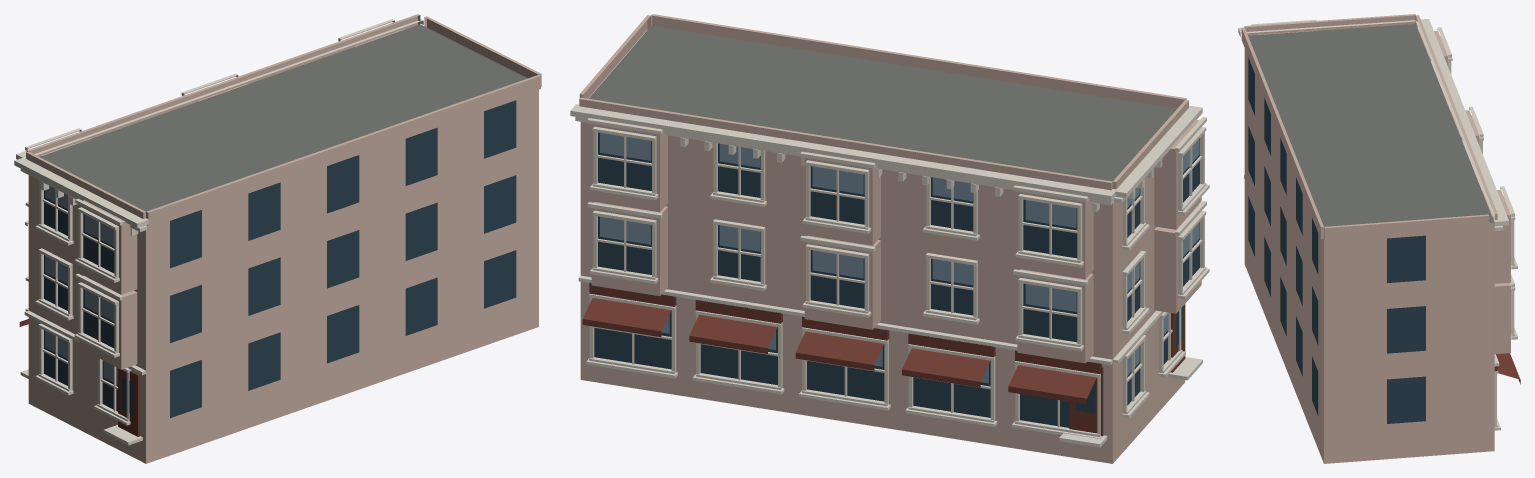
3 views of the same model, side by side, from view 1: azimuth 30°, elevation 25°; view 2: azimuth 150°, elevation 25°; view 3: azimuth 270°, elevation 25° (orthographic). The views are drawn at different scales.
Visible parts, largest first — view 1: Footprint 0 / surface 2, Footprint 0 / surface 1, Inset glazing, Facade bay volumes, Cornices and window frames, Sky reflection panels, Storefronts and doors; view 2: Footprint 0 / surface 2, Cornices and window frames, Footprint 0 / surface 1, Facade bay volumes, Inset glazing, Storefronts and doors, Sky reflection panels; view 3: Footprint 0 / surface 2, Footprint 0 / surface 1, Inset glazing, Facade bay volumes, Cornices and window frames, Storefronts and doors.
Part boxes in pixels (<box>): Footprint 0 / surface 2: <box>28,89,538,463</box>; Footprint 0 / surface 1: <box>40,24,527,211</box>; Inset glazing: <box>44,100,516,418</box>; Facade bay volumes: <box>26,14,541,369</box>; Cornices and window frames: <box>14,19,423,445</box>; Sky reflection panels: <box>45,186,117,384</box>; Storefronts and doors: <box>19,319,139,436</box>; Footprint 0 / surface 2: <box>580,122,1185,463</box>; Cornices and window frames: <box>570,104,1209,447</box>; Footprint 0 / surface 1: <box>589,26,1176,181</box>; Facade bay volumes: <box>579,14,1201,363</box>; Inset glazing: <box>594,132,1199,427</box>; Storefronts and doors: <box>582,282,1185,436</box>; Sky reflection panels: <box>600,132,1199,383</box>; Footprint 0 / surface 2: <box>1244,48,1494,463</box>; Footprint 0 / surface 1: <box>1248,24,1494,226</box>; Inset glazing: <box>1248,57,1425,423</box>; Facade bay volumes: <box>1241,14,1510,354</box>; Cornices and window frames: <box>1238,19,1517,430</box>; Storefronts and doors: <box>1494,353,1520,384</box>.
Bounding box in the file's own units: 19.11 × 9.65 × 10.4.
